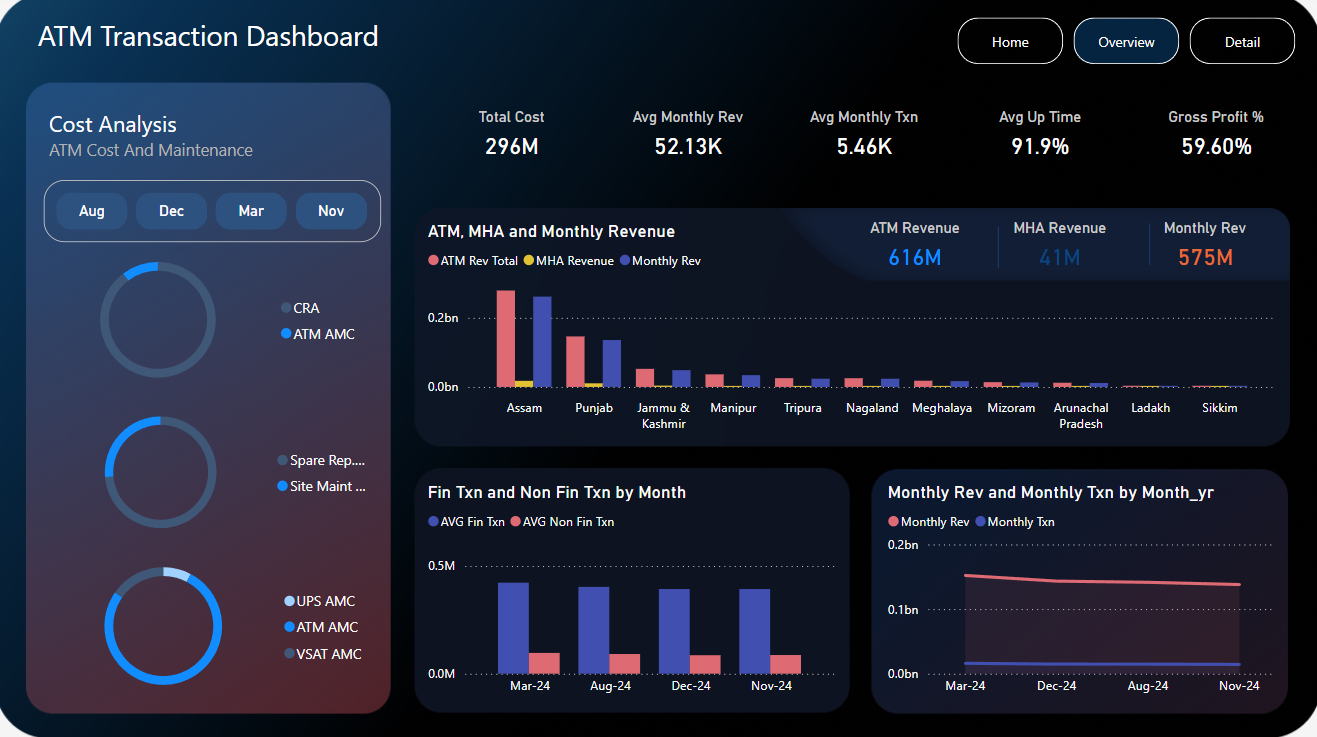

This screenshot's page, from the dashboard's own definition file:
{"tool":"powerbi","page":{"name":"Overview","canvas":[1280,720],"ordinal":1},"visuals":[{"type":"donutChart","fields":{"Y":["Sum(Dataset.CRA)","Sum(Dataset.ATM AMC)"]},"box":[35,238.9,326.9,149.6],"z":0},{"type":"donutChart","fields":{"Y":["Sum(Dataset.Spare Rep.(UPS))","Sum(Dataset.Site Maint (Non Asset))"]},"box":[43.4,388.5,329.4,144.8],"z":1000},{"type":"donutChart","fields":{"Y":["Sum(Dataset.UPS AMC)","Sum(Dataset.ATM AMC)","Sum(Dataset.VSAT AMC)"]},"box":[42.2,533.2,325.7,152],"z":2000},{"type":"clusteredColumnChart","title":"ATM, MHA and Monthly Revenue","fields":{"Y":["Sum(Dataset.ATM Rev Total)","Sum(Dataset.MHA Revenue)","Sum(Dataset.Monthly Rev)"],"Category":["Dataset.STATE"]},"box":[412.6,217.2,828.8,212.3],"z":3000},{"type":"clusteredColumnChart","title":"Fin Txn and Non Fin Txn by Month","fields":{"Y":["Sum(Dataset.AVG Fin Txn)","Sum(Dataset.AVG Non Fin Txn)"],"Category":["Dataset.Month_yr"]},"box":[412.6,469.3,404.2,216],"z":4000},{"type":"areaChart","fields":{"Category":["Dataset.Month_yr"],"Y":["Sum(Dataset.Monthly Rev)","Sum(Dataset.Monthly Txn)"]},"box":[856.6,469.3,384.9,216],"z":5000},{"type":"advancedSlicerVisual","fields":{"Values":["Dataset.Short_Month"]},"box":[47.1,178.6,325.7,60.3],"z":6000},{"type":"textbox","box":[47.1,103.8,264.2,60.3],"z":7000},{"type":"cardVisual","fields":{"Data":["Sum(Dataset. Total Cost  )","Avg(Dataset.Monthly Rev)","Avg(Dataset.Monthly Txn)","Avg(Dataset.Up Time)","Dataset.Gross Profit percentage"]},"box":[412.3,76.2,853.8,114.3],"z":8000},{"type":"cardVisual","title":"Title","fields":{"Data":["Sum(Dataset.ATM Rev Total)","Sum(Dataset.MHA Revenue)","Sum(Dataset.Monthly Rev)"]},"box":[816.8,199.1,424.7,76],"z":9000},{"type":"pageNavigator","box":[929,22,326.6,45.3],"z":10000},{"type":"textbox","box":[35.7,15.1,358.1,59],"z":11000}]}

Visuals, with their boxes in screenshot pixels (x1, y1, x2, y2), scaled from the page's 1280x720 canvas onto the 1317x737 screenshot:
donutChart - Sum(Dataset.CRA) x Sum(Dataset.ATM AMC): 36:245:372:398
donutChart - Sum(Dataset.Spare Rep.(UPS)) x Sum(Dataset.Site Maint (Non Asset)): 45:398:384:546
donutChart - Sum(Dataset.UPS AMC) x Sum(Dataset.ATM AMC): 43:546:379:701
"ATM, MHA and Monthly Revenue" clusteredColumnChart: 425:222:1277:440
"Fin Txn and Non Fin Txn by Month" clusteredColumnChart: 425:480:840:701
areaChart - Dataset.Month_yr x Sum(Dataset.Monthly Rev): 881:480:1277:701
advancedSlicerVisual - Dataset.Short_Month: 48:183:384:245
textbox: 48:106:320:168
cardVisual - Sum(Dataset. Total Cost  ) x Avg(Dataset.Monthly Rev): 424:78:1303:195
"Title" cardVisual: 840:204:1277:282
pageNavigator: 956:23:1292:69
textbox: 37:15:405:76
